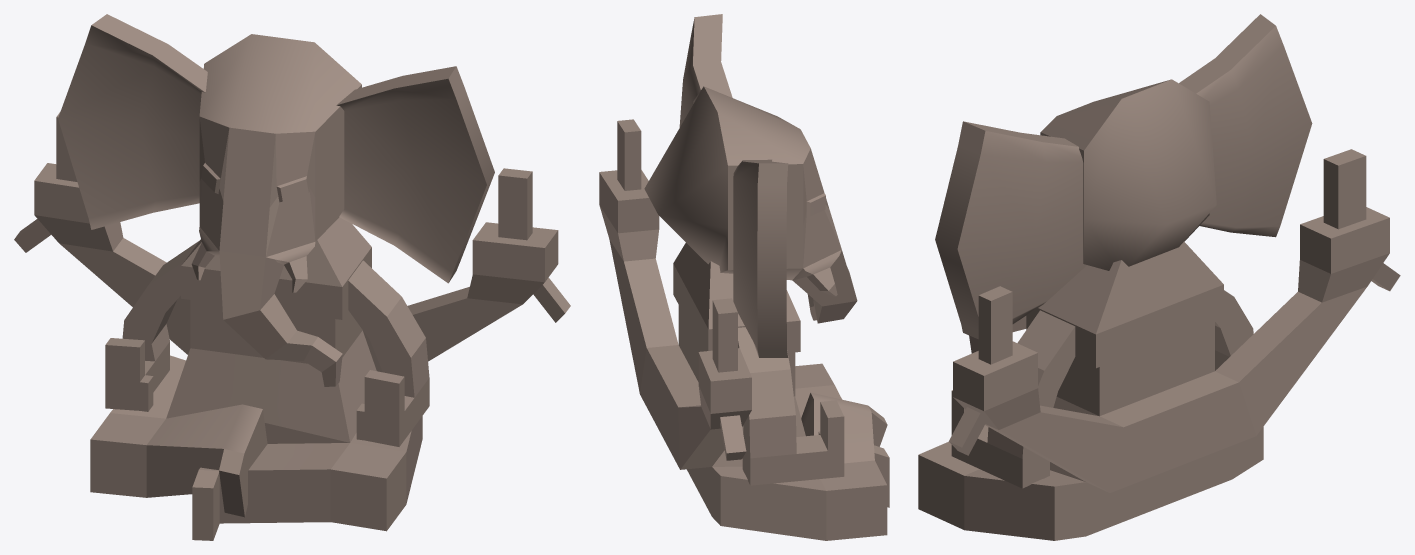
The model's file is TT_Elephant_statue.fbx.
3 views of the same model, side by side, from view 1: azimuth 30°, elevation 25°; view 2: azimuth 150°, elevation 25°; view 3: azimuth 270°, elevation 25° (orthographic). The views are drawn at different scales.
Visible parts, largest first — view 1: Elephant_statue; view 2: Elephant_statue; view 3: Elephant_statue.
Part boxes in pixels (left/top/right/bottom): Elephant_statue: left=14, top=14, right=570, bottom=540; Elephant_statue: left=599, top=14, right=889, bottom=540; Elephant_statue: left=918, top=14, right=1400, bottom=540.
Bounding box in the file's own units: 317 × 342 × 331.
